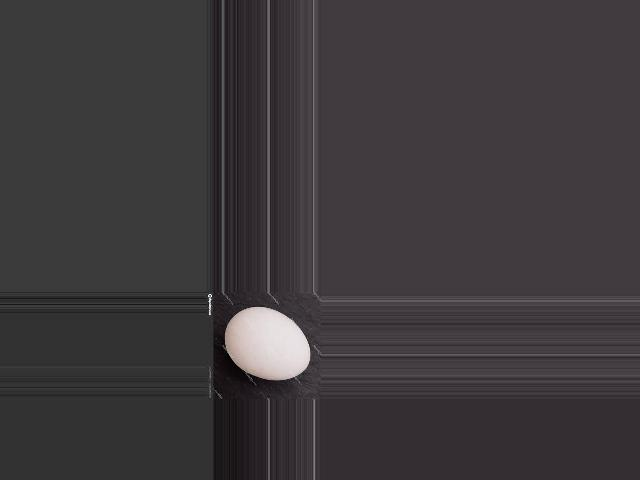egg: (224, 307, 309, 380)
